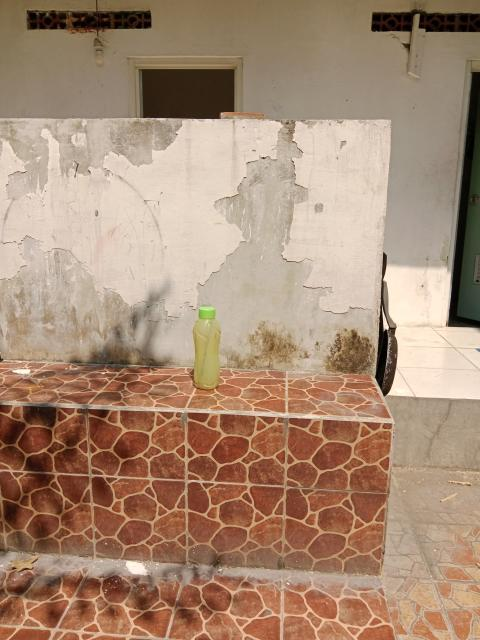botol: (189, 299, 224, 397)
